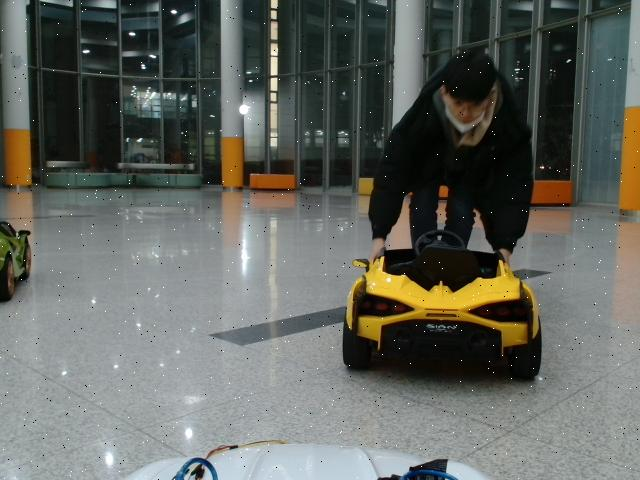car: (343, 230, 542, 379)
